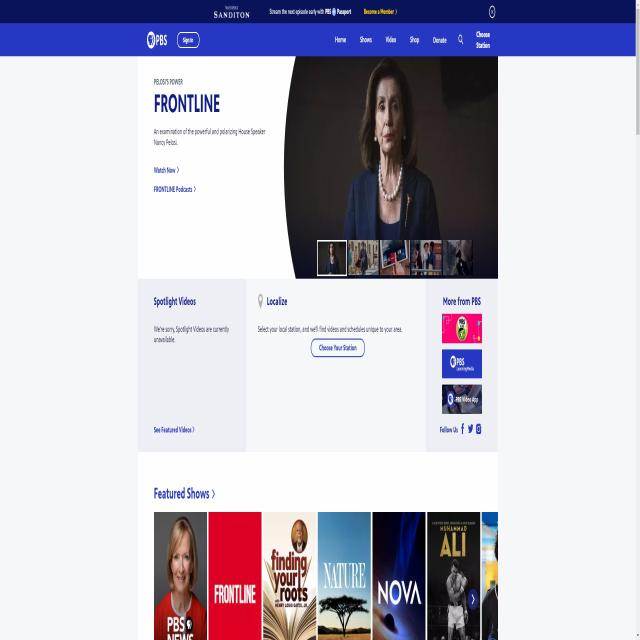tab-bar: (330, 23, 494, 53)
